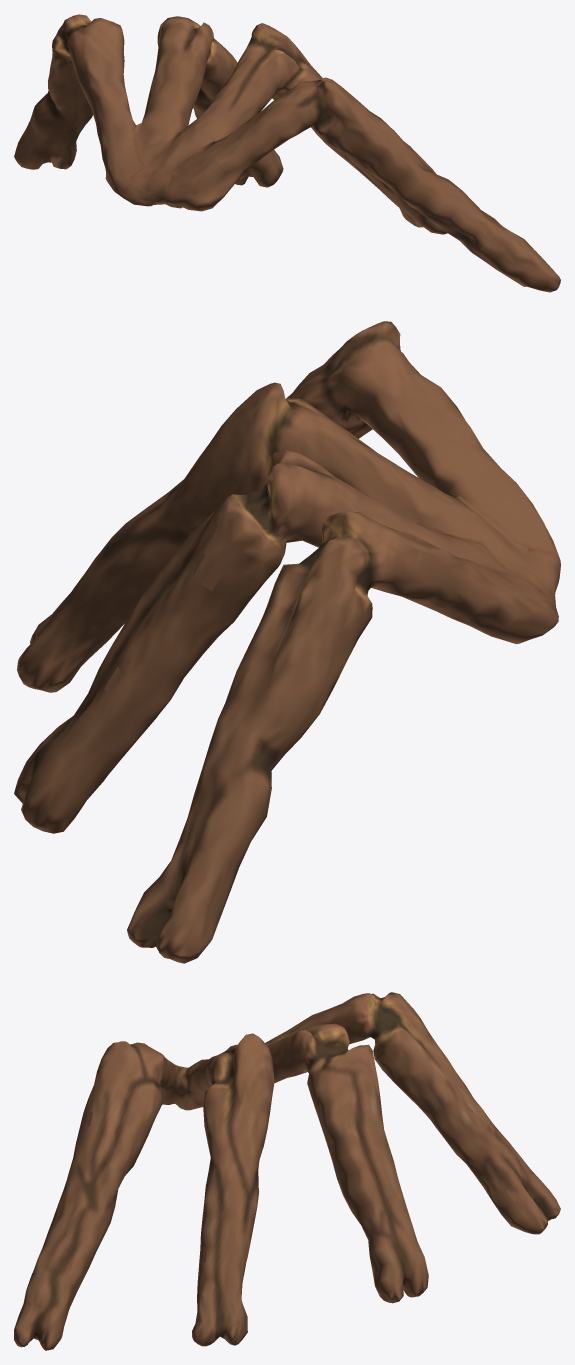
Rendered from sculpture_07.glb.
The picture shows the model from 3 angles, top to bottom: view 1: azimuth 30°, elevation 25°; view 2: azimuth 150°, elevation 25°; view 3: azimuth 270°, elevation 25°; orthographic projection. The views are drawn at different scales.
Parts seen in each view (by area): view 1: SCL_02_05; view 2: SCL_02_05; view 3: SCL_02_05.
Part boxes in pixels (left/top/right/bottom): SCL_02_05: left=14, top=14, right=560, bottom=292; SCL_02_05: left=14, top=321, right=560, bottom=963; SCL_02_05: left=14, top=992, right=560, bottom=1350.
Size of the model in its own units: 0.3656 by 0.238 by 0.5037.
Materials: 1 (1 with a texture image).
